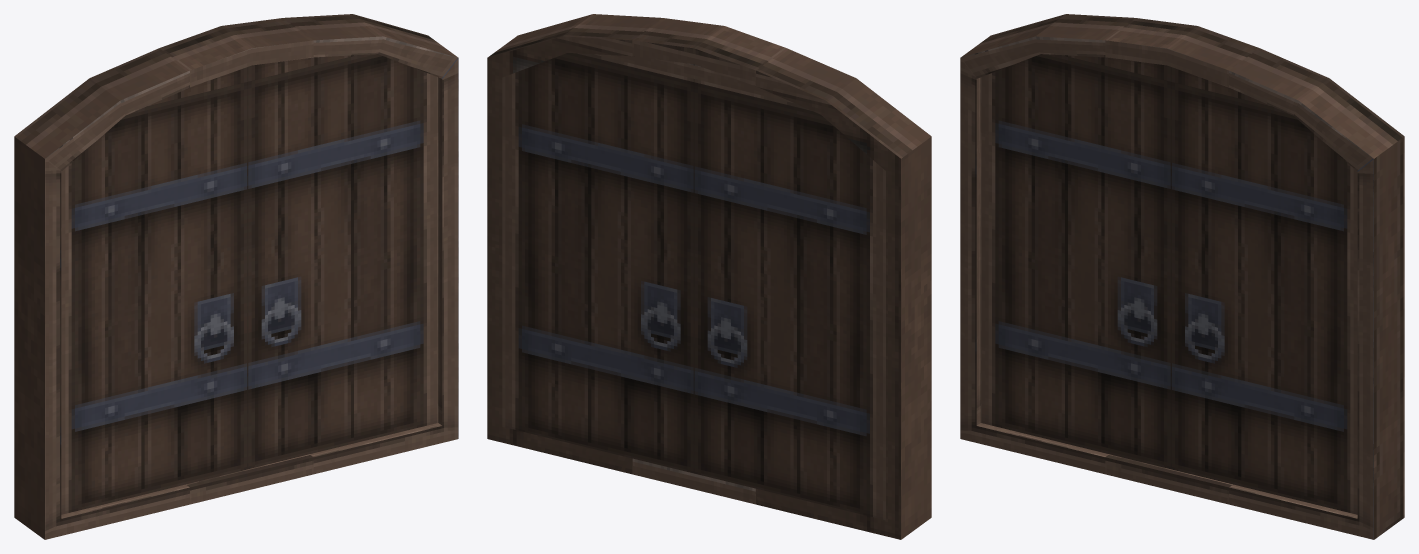
File: door_wood_double.glb
The picture shows the model from 3 angles, left to right: view 1: azimuth 30°, elevation 25°; view 2: azimuth 150°, elevation 25°; view 3: azimuth 330°, elevation 25°; orthographic projection.
Parts seen in each view (by area): view 1: door_wood_double; view 2: door_wood_double; view 3: door_wood_double.
Part boxes in pixels (<box>): door_wood_double: <box>14,14,458,539</box>; door_wood_double: <box>487,14,931,539</box>; door_wood_double: <box>960,14,1404,539</box>.
Size of the model in its own units: 2.25 by 2.29 by 0.2885.
1 material, 1 textured.
